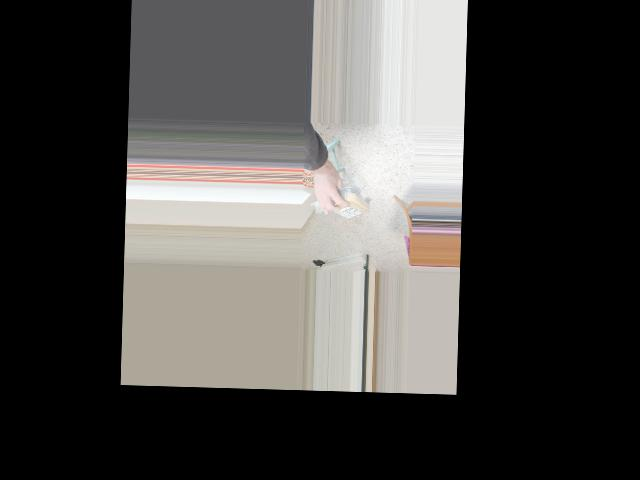cheese: (326, 189, 372, 220)
